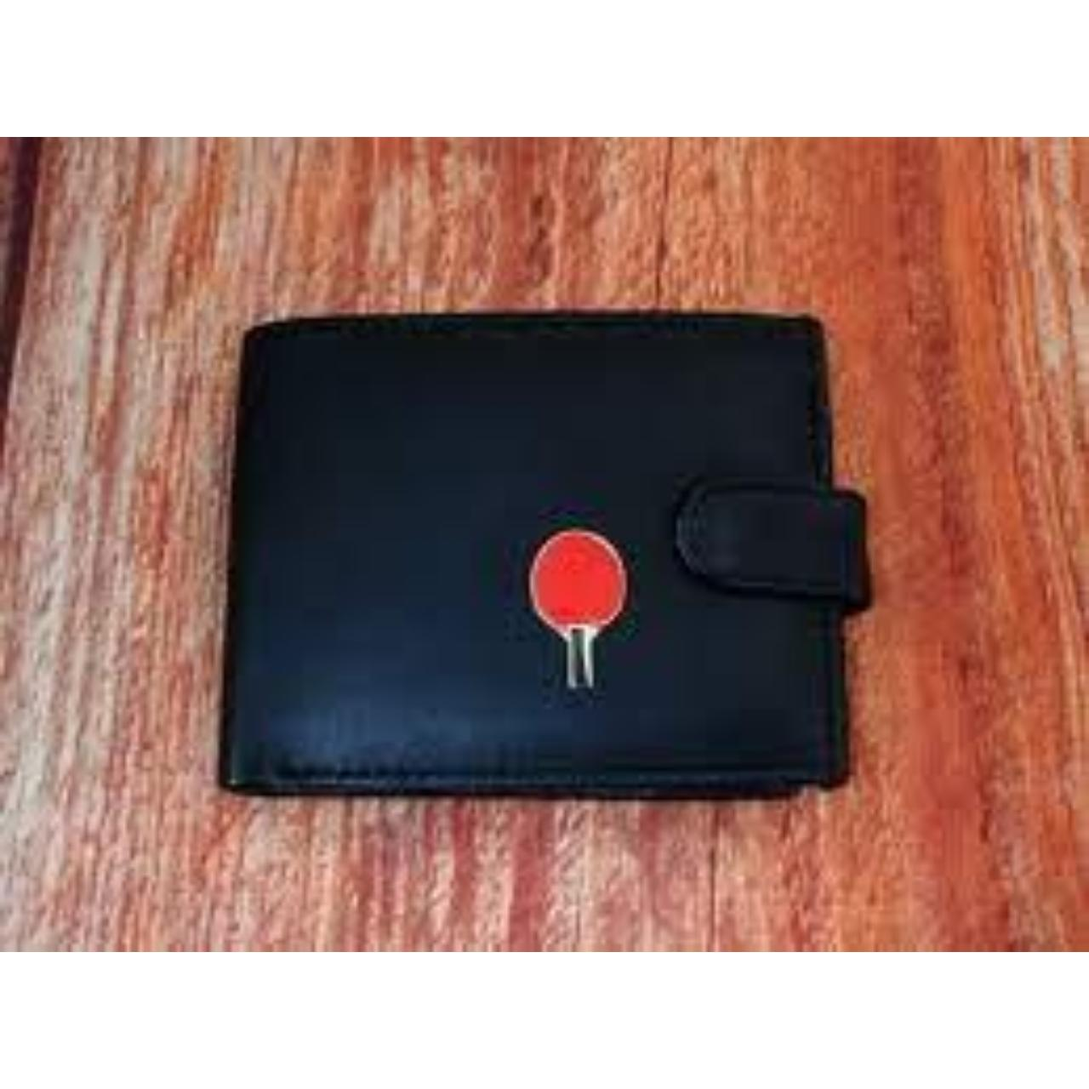wallet: (238, 314, 973, 843)
